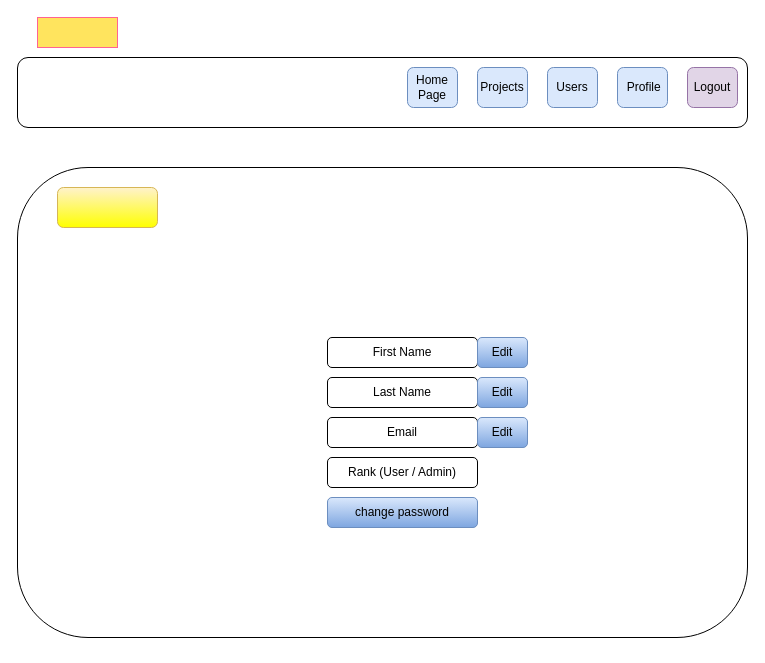
Some shapes in this 765 by 663 pixel diagram are drawn without their labels. Each missing label, with the centre of its shape:
Profile page: (77,32)
User personal info: (107,207)
